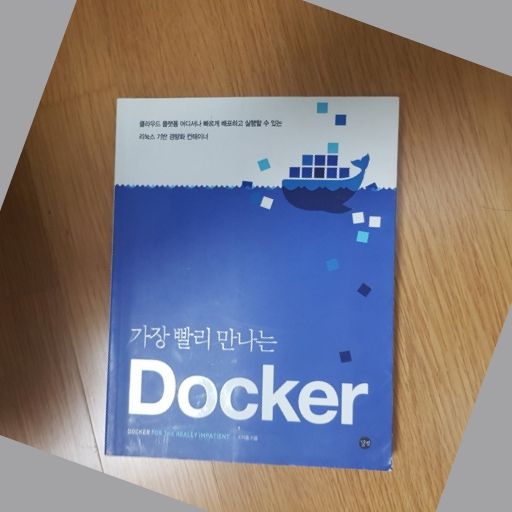Paper_0: (102, 95, 406, 477)
